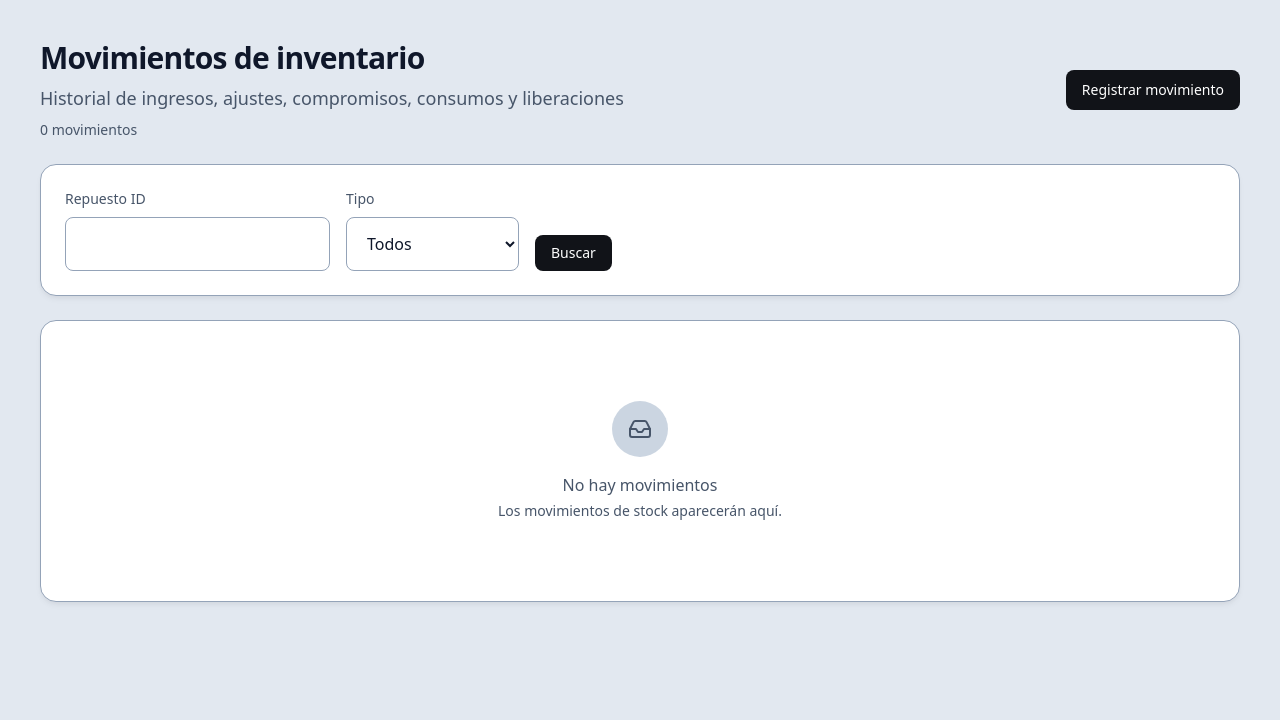
Test: AdminInventoryMovementsPage: formulario de registro › abre el diálogo con sus campos y el tipo ingreso por defecto
Expected: the text "No hay movimientos" is shown, 562,473 -> 717,497
Step 1. Click the button "Registrar movimiento" → (1153, 90), box 1066,70 -> 1240,110
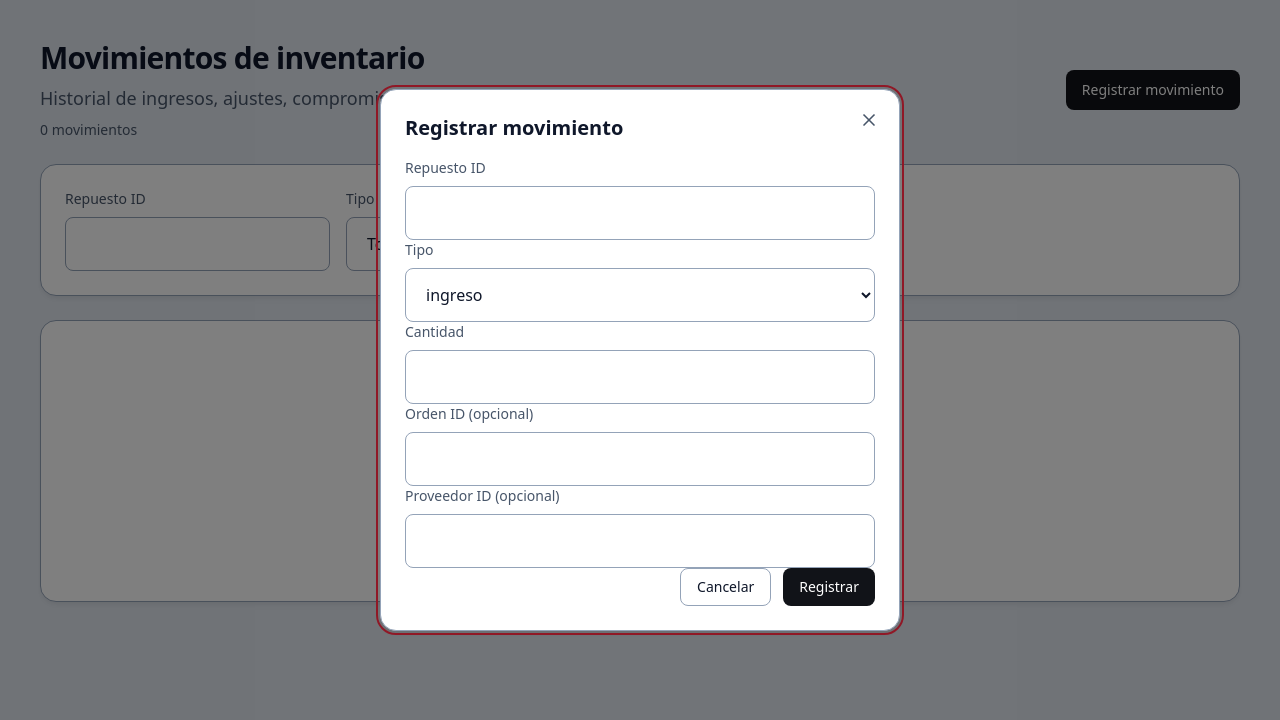
Result: the number field labelled "Repuesto ID" is shown at 405,186 -> 875,240
Result: the number field labelled "Cantidad" is shown at 405,350 -> 875,404
Result: the dropdown labelled "Tipo" shows "ingreso" at 405,268 -> 875,322
